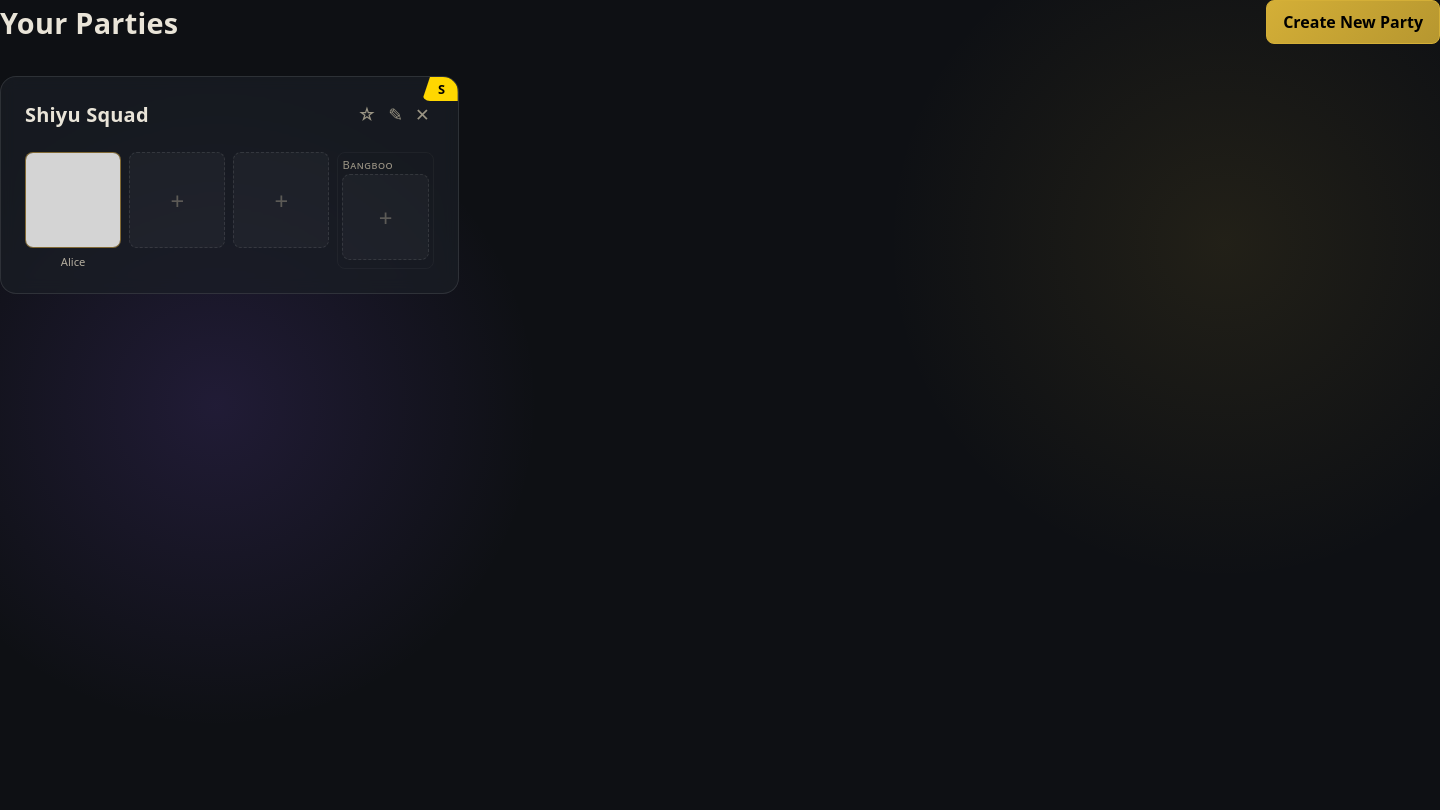
Test: PartiesTab (ZZZ config wiring) › renders exactly three member slots plus the Bangboo companion slot in the editor
Click the button "Create New Party".
click(1353, 22)  # box [1266,0,1439,44]
(page scrolled)
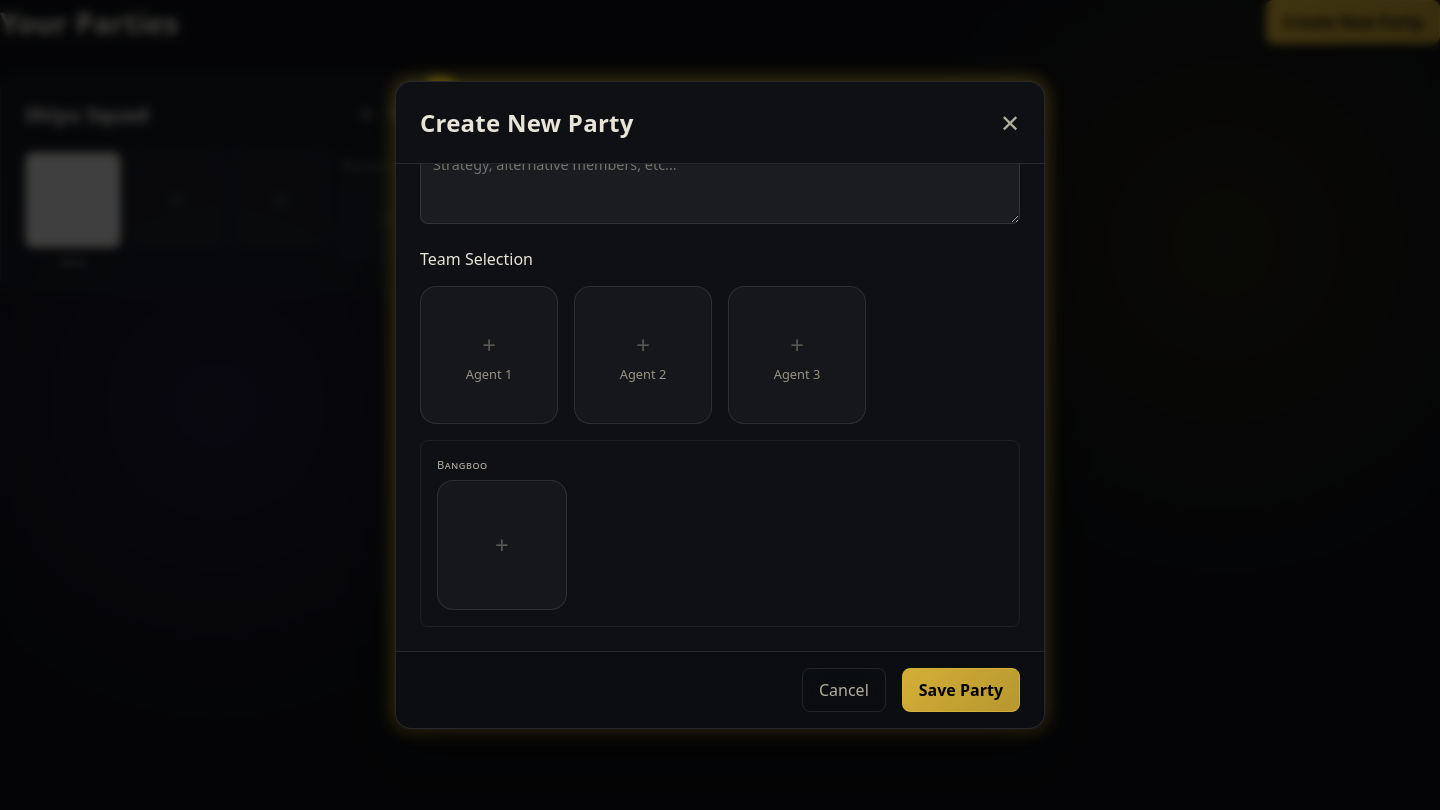
expect the element with class "companion-panel" showing "Bangboo +" is shown: met, box [420,440,1020,626]
expect the element with class "companion-panel" shows "Bangboo": met, box [437,457,488,472]
